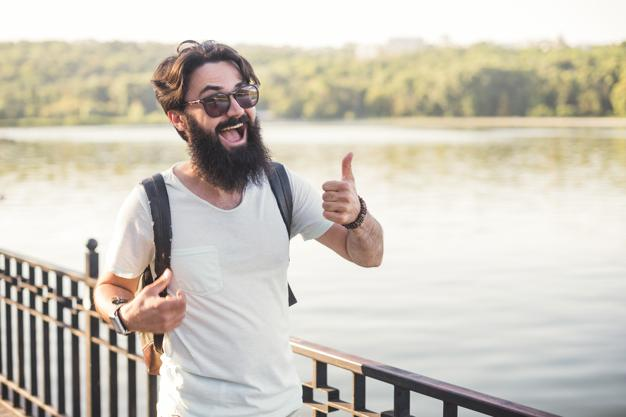thumbsup: (323, 152, 356, 223)
